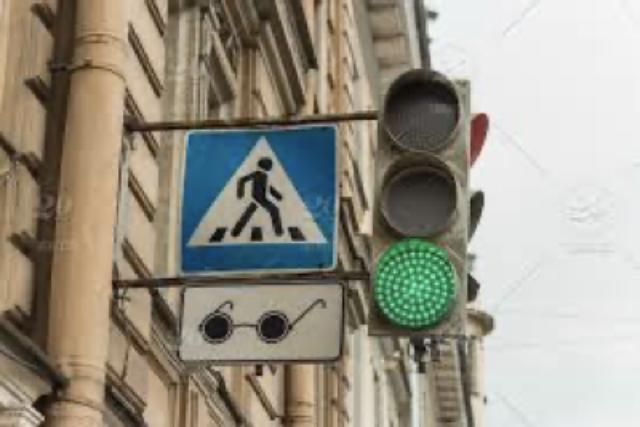crosswalk-sign: (179, 124, 339, 276)
